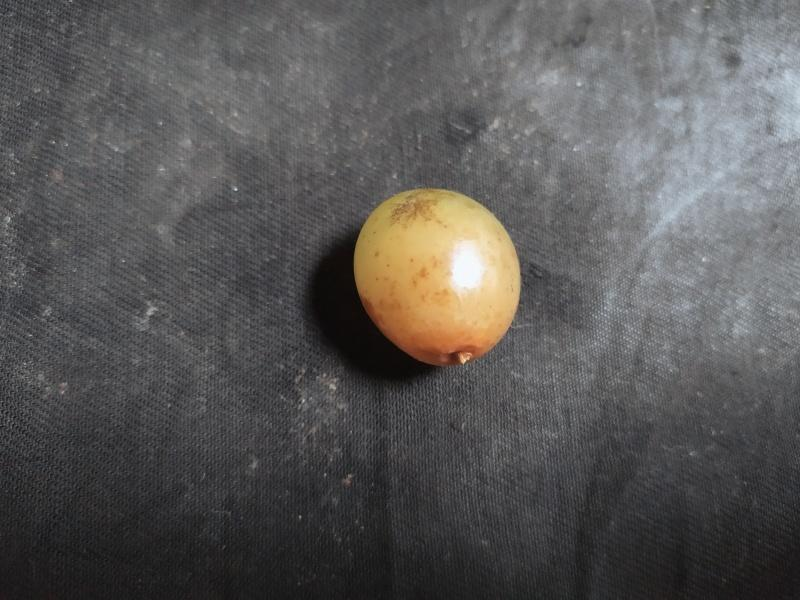Grape Rotten: (353, 185, 523, 370)
